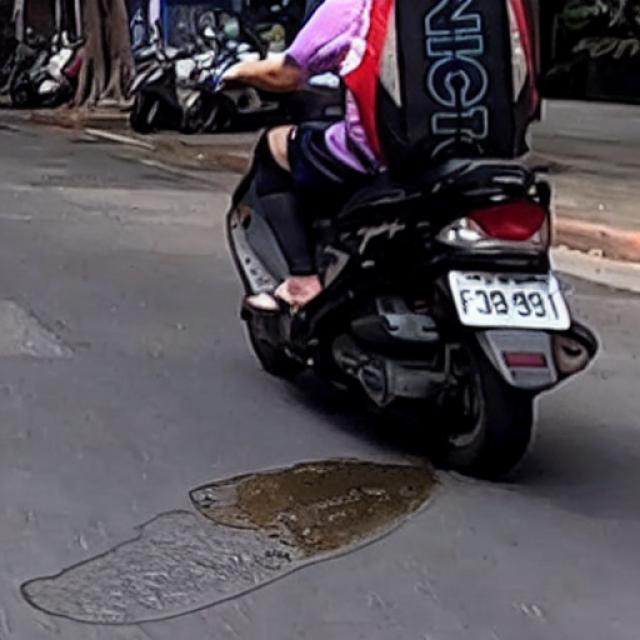puddle: (25, 461, 439, 622)
